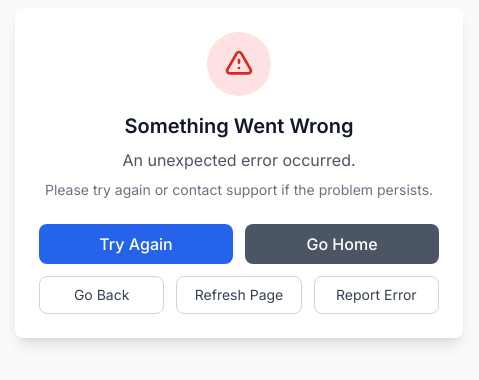
ErrorBoundary › Retry Functionality › should increment retry count when retry button is clicked
This screenshot has width=479, height=380.
Expected: the heading "Something Went Wrong" is shown, [124,114,354,138]
Expected: the text "retry attempt" is not shown
// Click retry
Click the button "Try Again" at (136, 244), box [39,224,233,264]
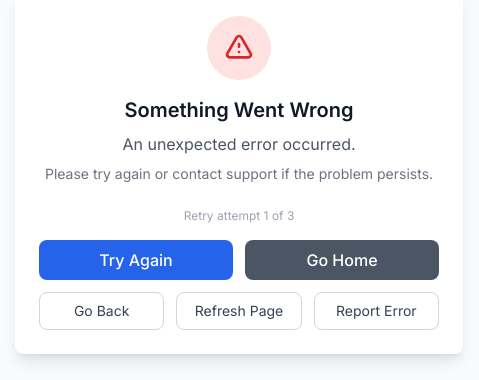
Now the text "Retry attempt 1 of 3" is shown, box [184,208,294,223]
